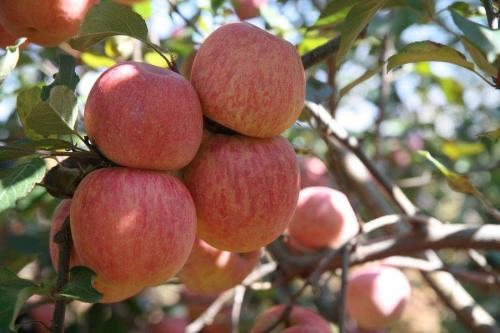apple: (69, 167, 198, 286), (189, 20, 307, 138), (84, 61, 204, 170)
obscured(0)_apple: (177, 125, 301, 252)
